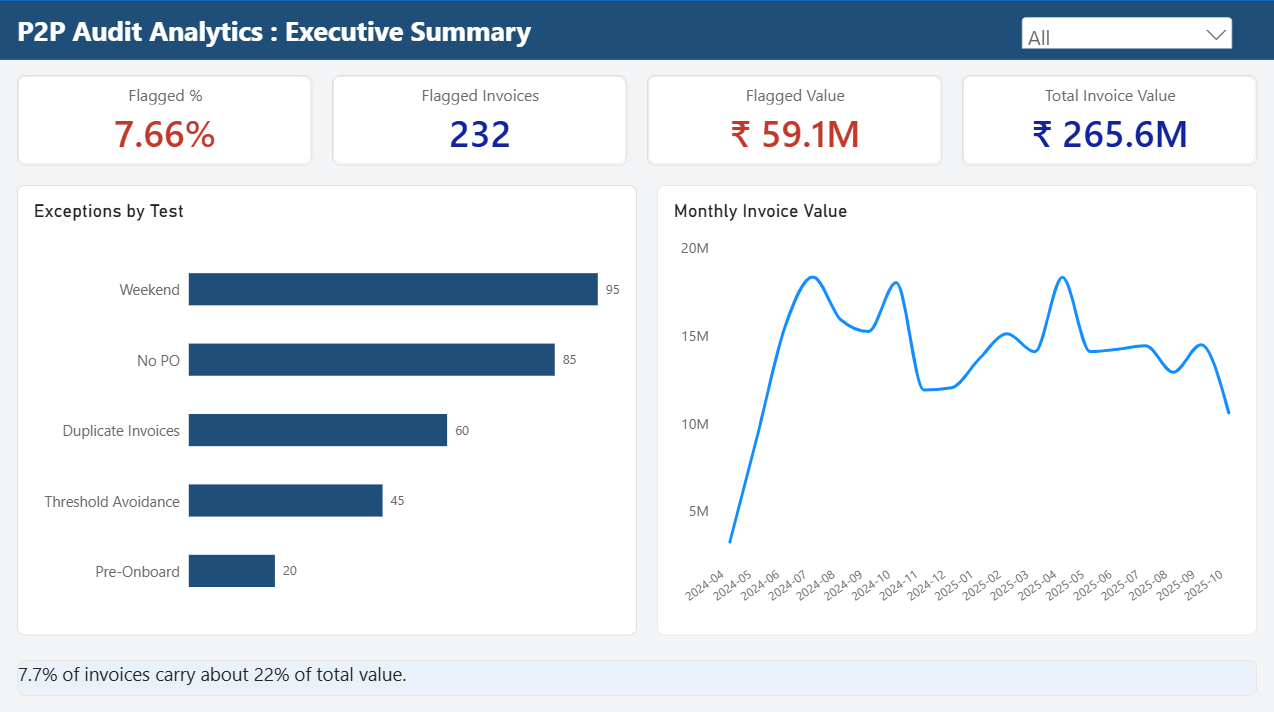

This screenshot's page, from the dashboard's own definition file:
{"tool":"powerbi","page":{"name":"Executive Summary","canvas":[1280,720],"ordinal":0},"visuals":[{"type":"shape","box":[0,0,1280,60],"z":0},{"type":"cardVisual","fields":{"Data":["invoice_flags.Flagged Invoices"]},"box":[335,75,295,90],"z":1000},{"type":"cardVisual","fields":{"Data":["invoice_flags.Flagged Value"]},"box":[650,75,295,90],"z":2000},{"type":"cardVisual","fields":{"Data":["invoice_flags.Flagged %"]},"box":[20,75,295,90],"z":3000},{"type":"cardVisual","fields":{"Data":["invoice_flags.Total Invoice Value"]},"box":[965,75,295,90],"z":4000},{"type":"clusteredBarChart","title":"Exceptions by Test","fields":{"Category":["Flag Types.Test"],"Y":["invoice_flags.Exceptions Count"]},"box":[20.6,185,620,450],"z":5000},{"type":"lineChart","title":"Monthly Invoice Value","fields":{"Category":["invoice_flags.Year-Month"],"Y":["invoice_flags.Total Invoice Value"]},"box":[660,185,600,450],"z":6000},{"type":"slicer","fields":{"Values":["vendors.category"]},"box":[1020,12.5,220,36],"z":7000},{"type":"textbox","box":[20.6,660,1240,35.7],"z":8000},{"type":"textbox","box":[20,12,967.4,57.6],"z":9000}]}

Visuals, with their boxes in screenshot pixels (x1, y1, x2, y2), scaled from the page's 1280x720 canvas onto the 1274x712 screenshot:
shape: bbox(0, 0, 1273, 59)
cardVisual - invoice_flags.Flagged Invoices: bbox(333, 74, 627, 163)
cardVisual - invoice_flags.Flagged Value: bbox(647, 74, 941, 163)
cardVisual - invoice_flags.Flagged %: bbox(20, 74, 314, 163)
cardVisual - invoice_flags.Total Invoice Value: bbox(960, 74, 1254, 163)
"Exceptions by Test" clusteredBarChart: bbox(21, 183, 638, 628)
"Monthly Invoice Value" lineChart: bbox(657, 183, 1254, 628)
slicer - vendors.category: bbox(1015, 12, 1234, 48)
textbox: bbox(21, 653, 1255, 688)
textbox: bbox(20, 12, 983, 69)
